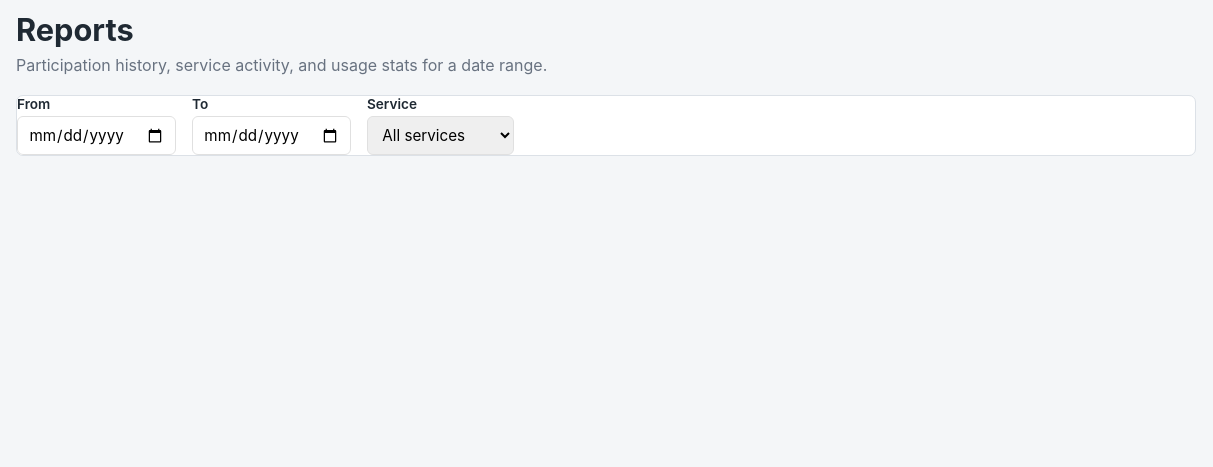
admin reports › generates all three reports and shows the summary numbers
Click the button "Generate report" at [609, 136], box [530,116,687,155]
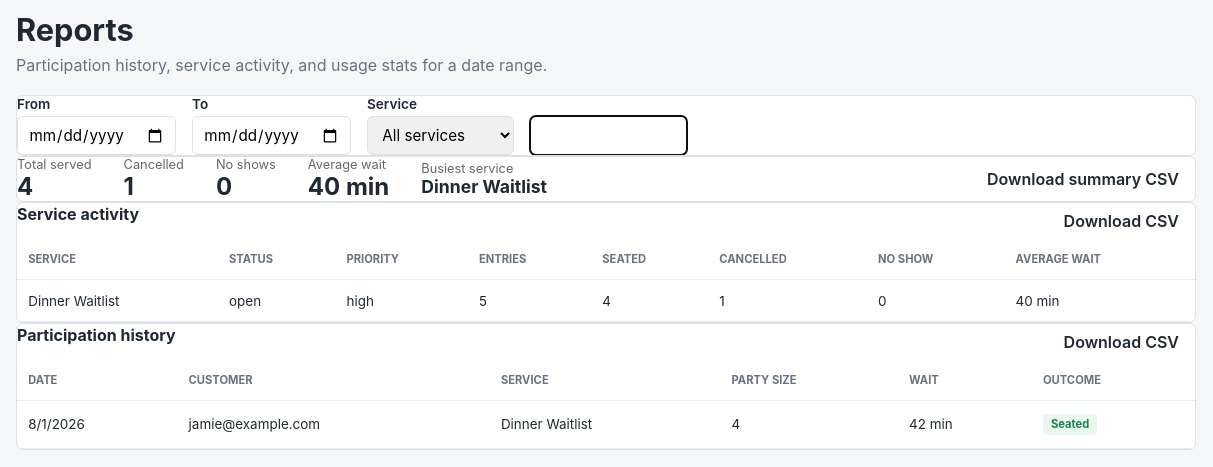
expect the text "Total served" is shown: met, box [17,157,92,172]
expect the text "4" is shown: met, box [17,172,33,201]
expect the text "Dinner Waitlist" is shown: met, box [421,176,547,197]
